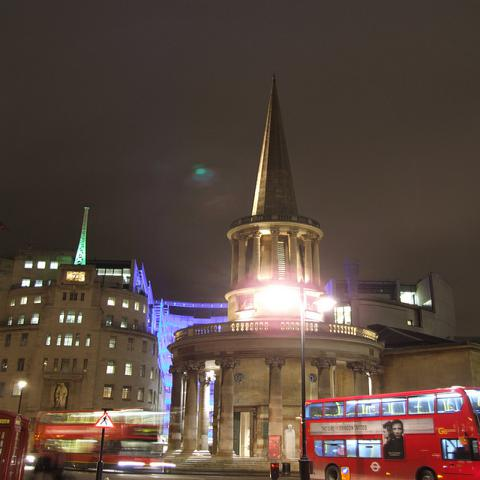bus: (305, 388, 479, 479), (31, 409, 162, 474)
